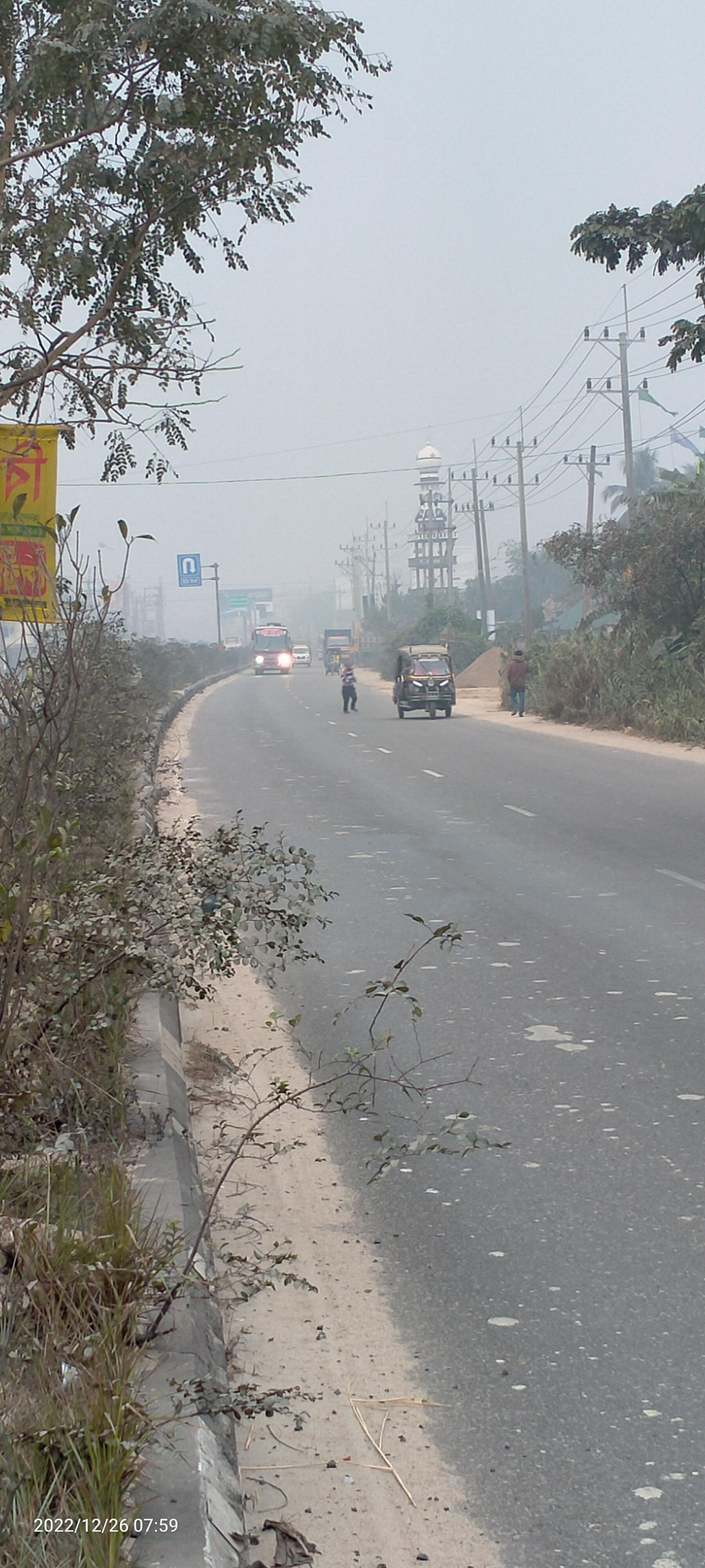Bus: (246, 619, 296, 679)
Car: (323, 642, 346, 678)
Truck: (319, 622, 358, 667), (290, 639, 316, 669)
